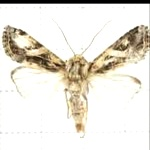Spodoptera litura: (0, 15, 149, 138)
